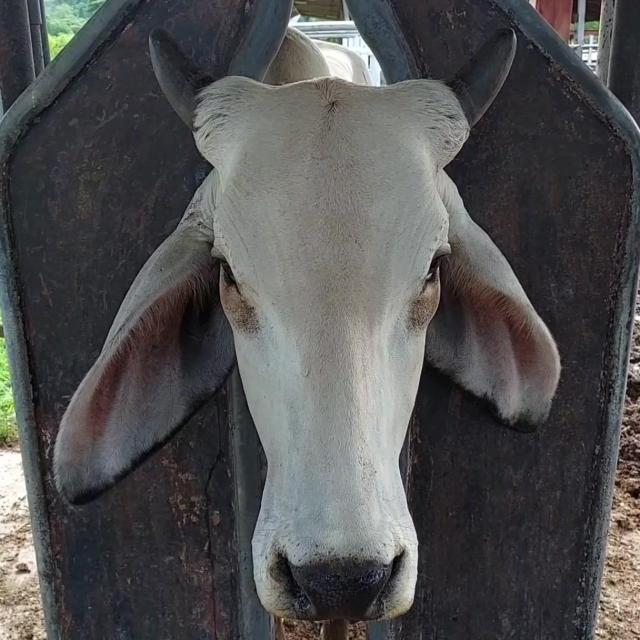cowFace: (211, 76, 447, 622)
